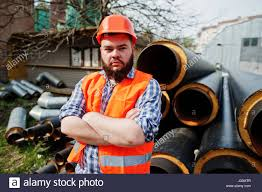Hard Hat: (95, 15, 136, 39)
High Viz: (106, 76, 151, 175)
